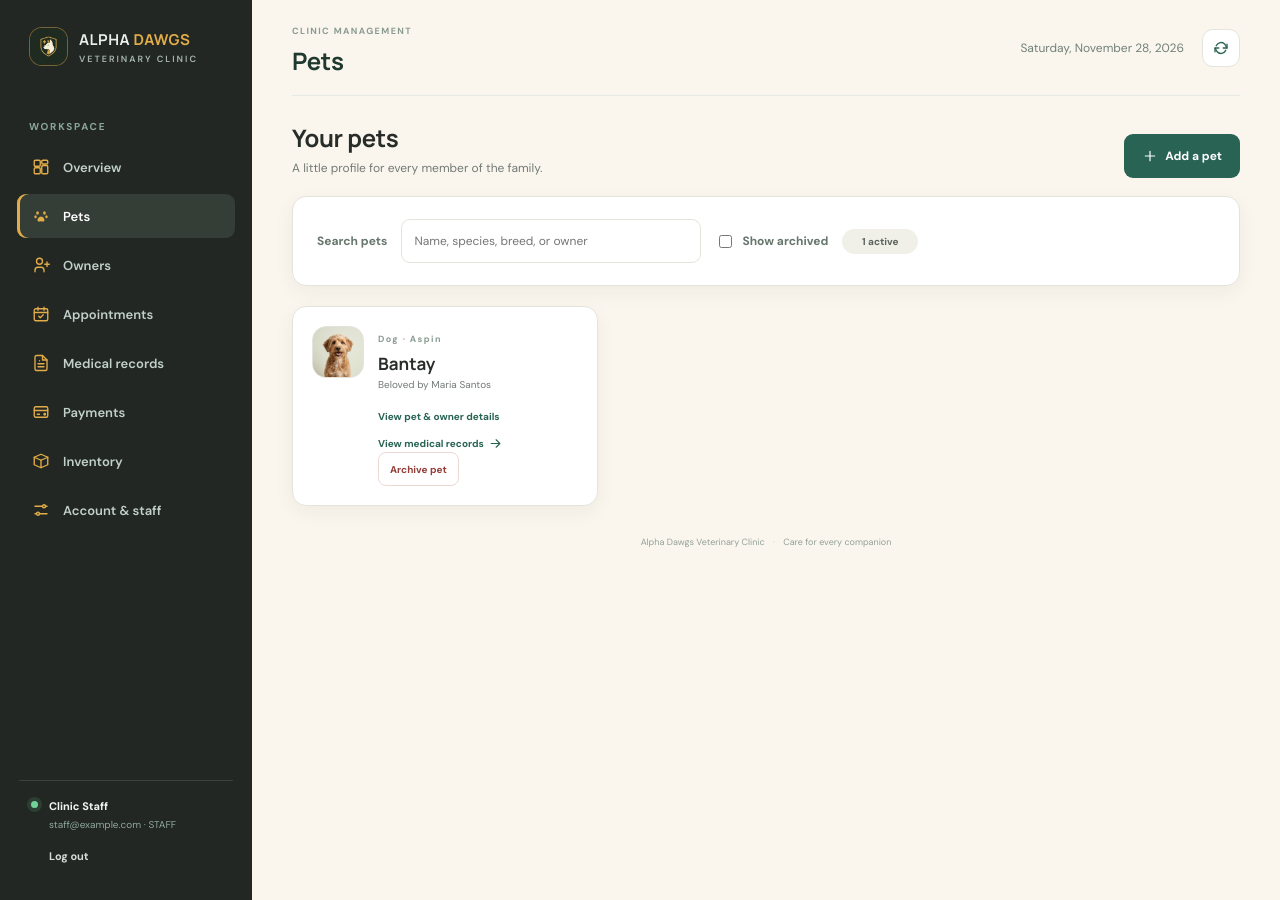
Test: clinic portals and routing › opens an existing pet profile and edits the owner name
The image size is (1280, 900).
Step 1. Click the button "View pet & owner details" → (439, 416), box top-left (378, 410), bottom-right (500, 423)
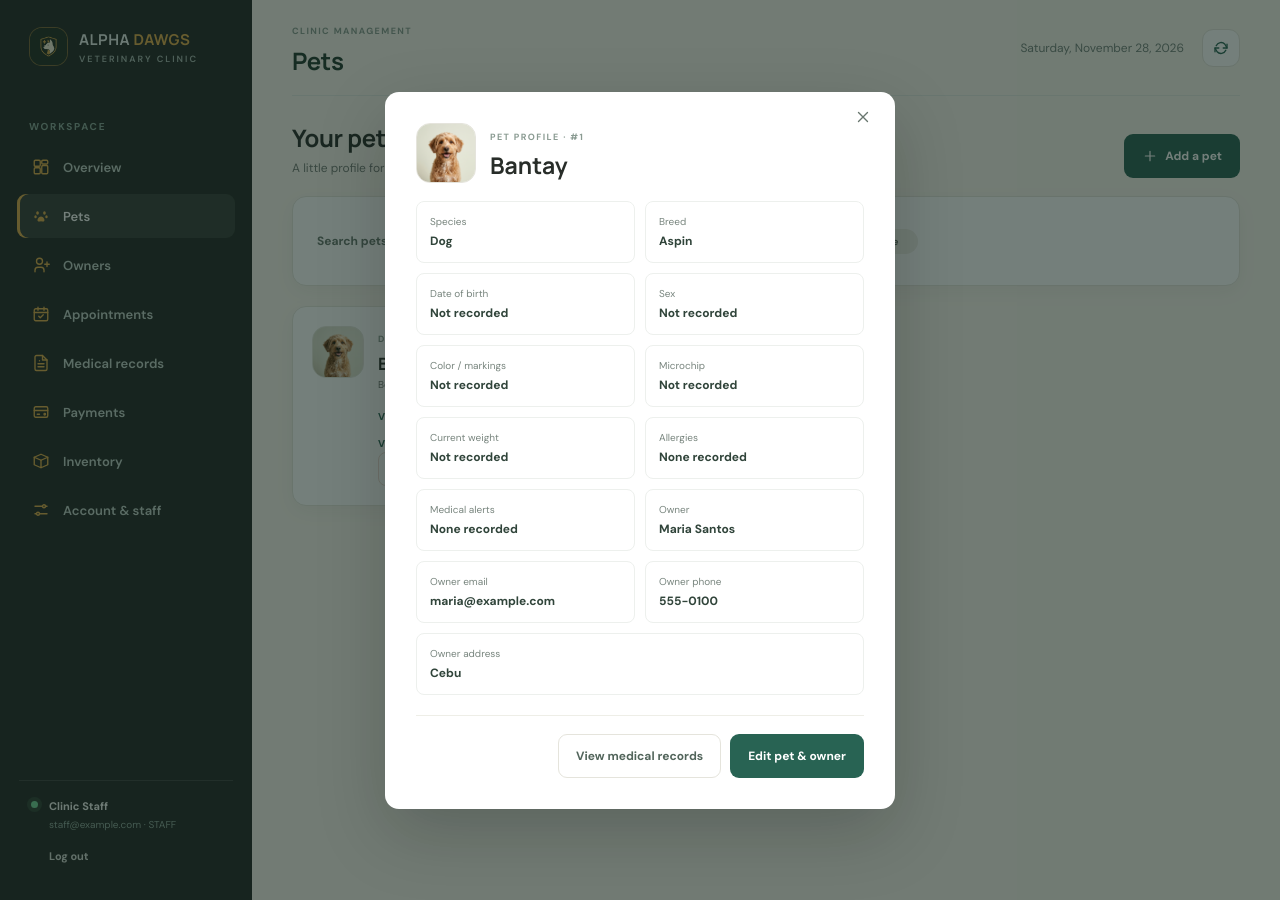
Expected: the dialog shows "Maria Santos", top-left (659, 520), bottom-right (735, 536)
Expected: the dialog shows "maria@example.com", top-left (430, 592), bottom-right (555, 608)
Expected: the dialog shows "Aspin", top-left (659, 232), bottom-right (692, 248)
Step 2. Click the button "Edit pet & owner" → (797, 756), box top-left (730, 734), bottom-right (864, 778)
(page scrolled)
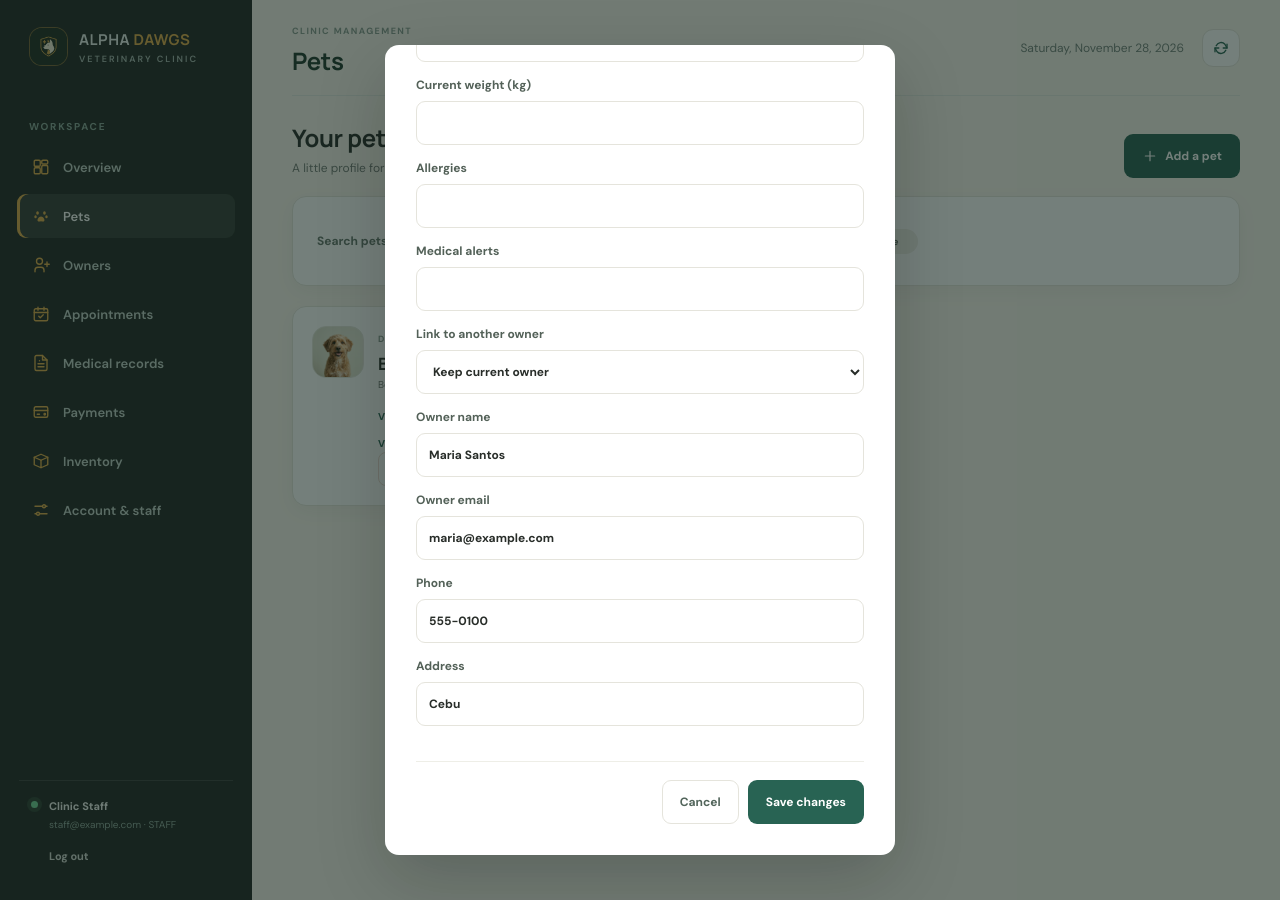
Step 3. Replace the text in the field labelled "Owner name" with "Ana Reyes" → (640, 455), box top-left (416, 433), bottom-right (864, 477)
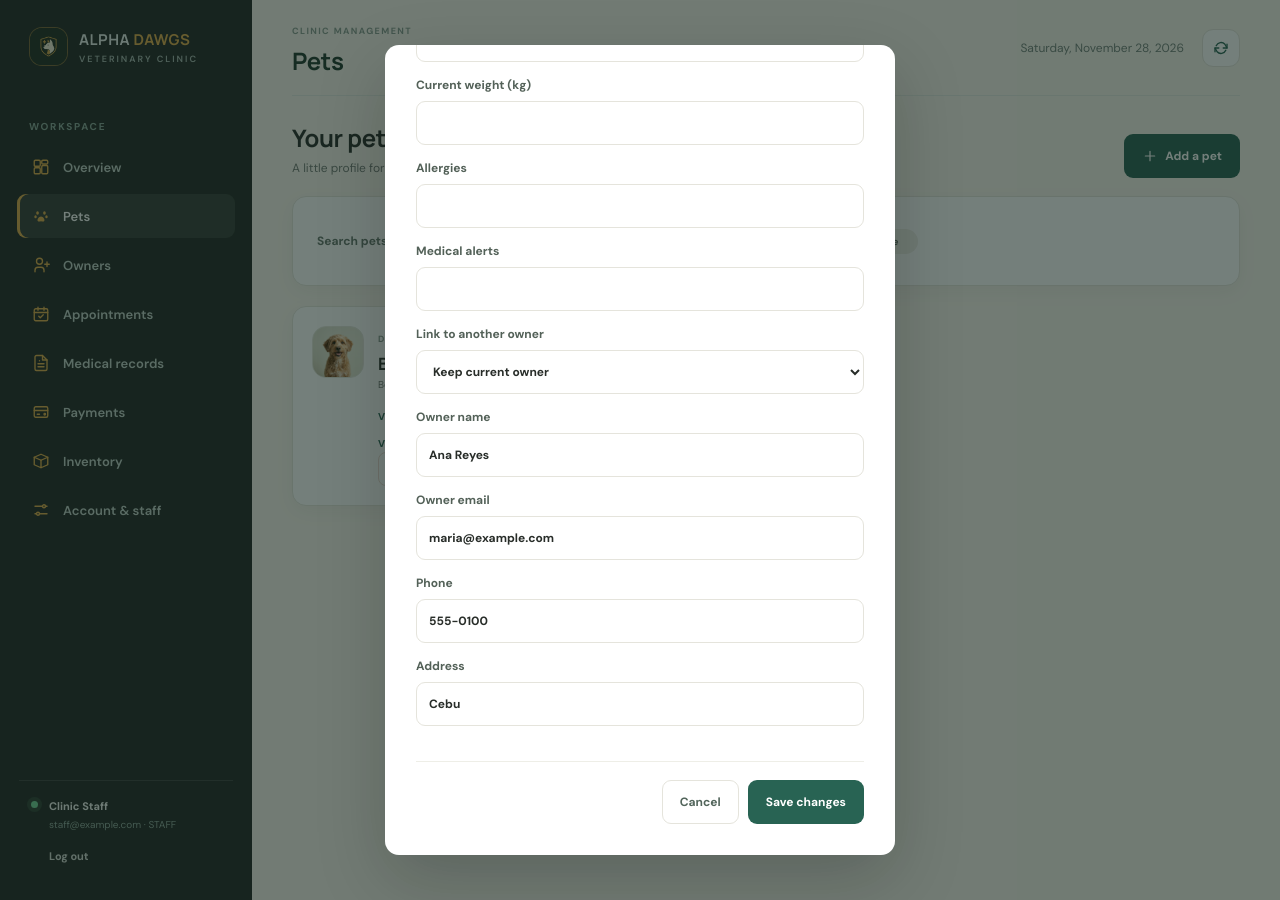
Step 4. Click the button "Save changes" → (806, 802), box top-left (748, 780), bottom-right (864, 824)
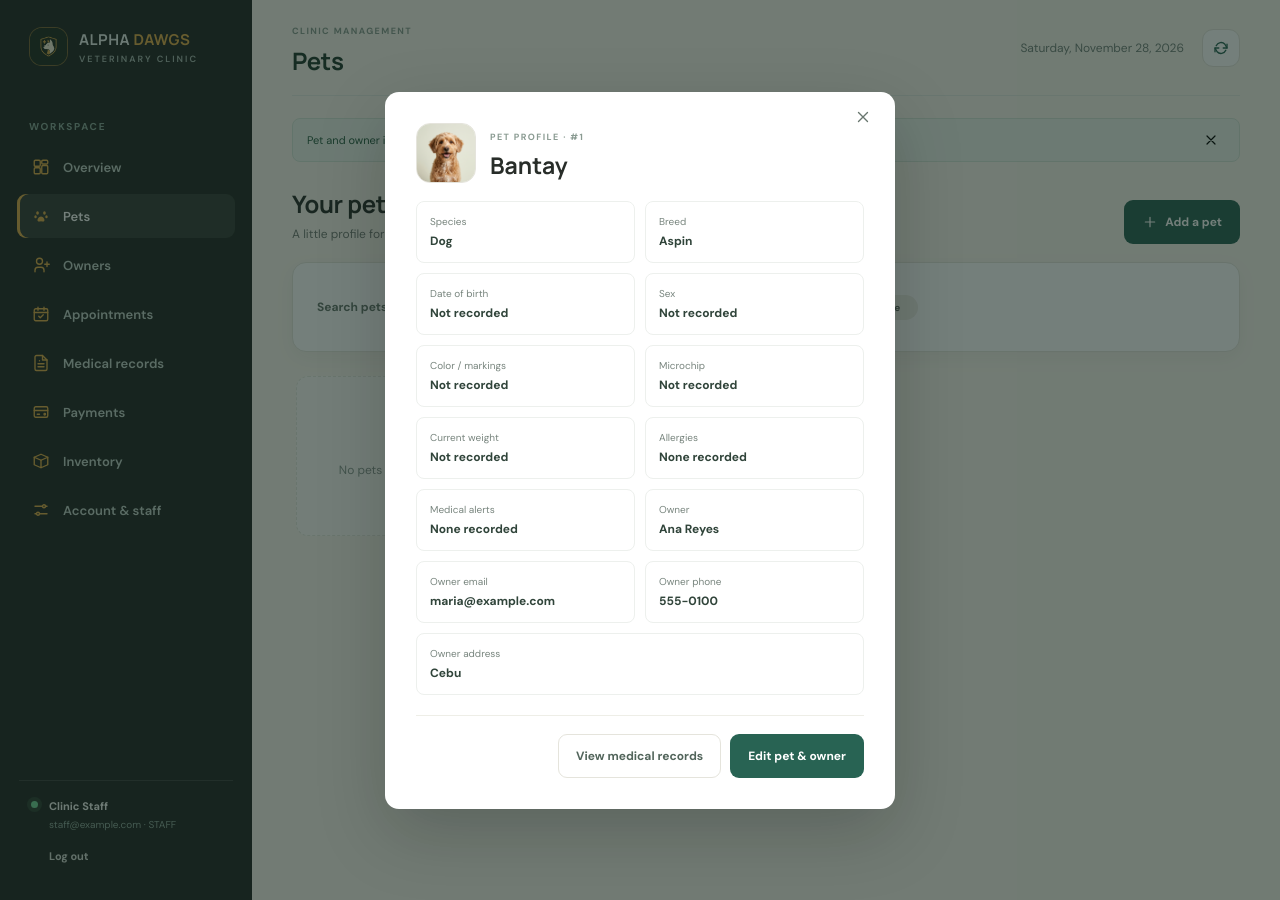
Expected: the dialog shows "Ana Reyes", top-left (659, 520), bottom-right (719, 536)
